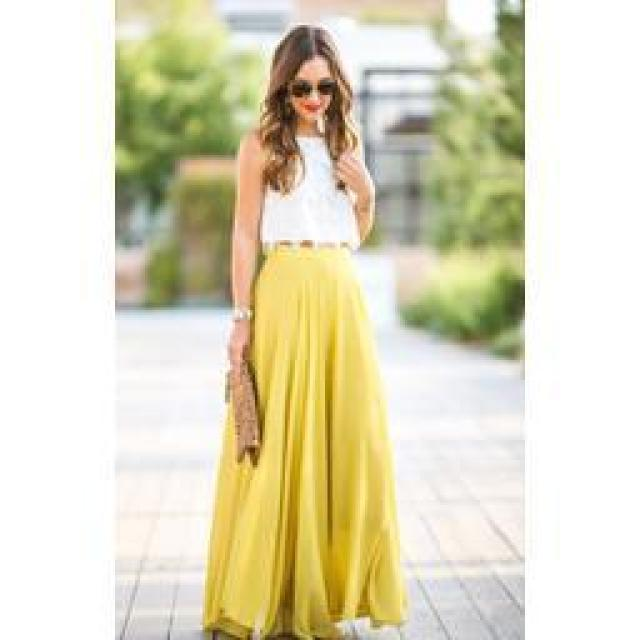Tshirt: (259, 108, 366, 250)
skirt: (205, 245, 407, 640)
